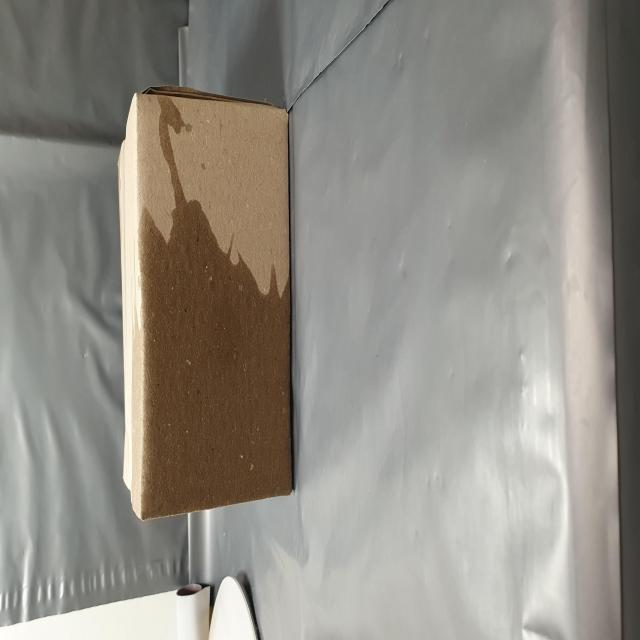wet: (72, 227, 309, 530)
